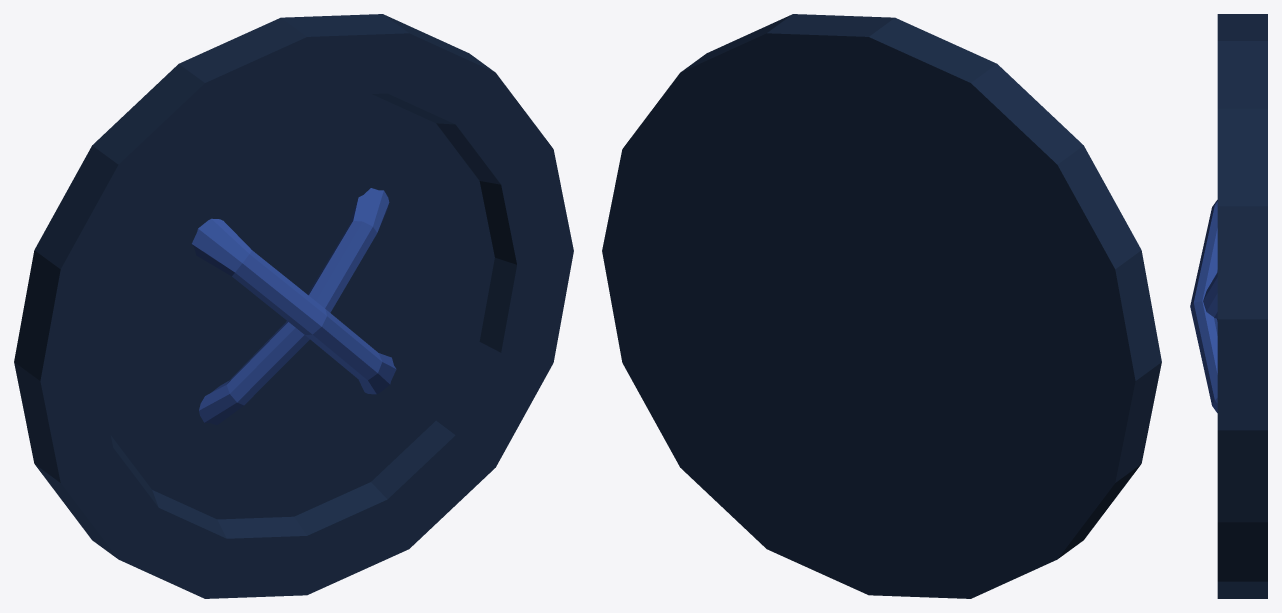
The picture shows the model from 3 angles, left to right: view 1: azimuth 30°, elevation 25°; view 2: azimuth 150°, elevation 25°; view 3: azimuth 270°, elevation 25°; orthographic projection. The views are drawn at different scales.
Visible parts, largest first — view 1: Shield2; view 2: Shield2; view 3: Shield2.
Boxes of the visible parts, bbox=[...] form: Shield2: bbox=[14, 14, 573, 598]; Shield2: bbox=[602, 14, 1161, 598]; Shield2: bbox=[1190, 14, 1267, 598].
Bounding box in the file's own units: 62.41 × 8.28 × 62.41.
Materials: 1 (1 with a texture image).
